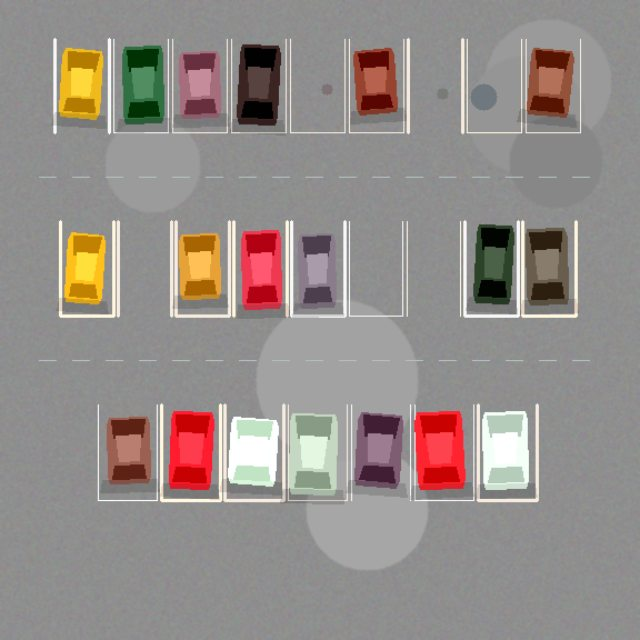space-empty: (118, 221, 171, 316), (349, 221, 402, 316), (407, 221, 460, 316), (290, 39, 344, 132), (408, 39, 462, 132), (467, 39, 521, 132)
space-occupied: (98, 404, 157, 500), (161, 404, 220, 500), (224, 404, 283, 500), (288, 404, 347, 500), (351, 404, 410, 500), (414, 404, 473, 500), (478, 404, 537, 500), (233, 221, 287, 316), (464, 221, 518, 316), (522, 221, 576, 316), (54, 39, 109, 132), (113, 39, 168, 132), (172, 39, 227, 132), (231, 39, 286, 132), (60, 221, 113, 316), (176, 221, 229, 316), (291, 221, 344, 316), (349, 39, 403, 132), (526, 39, 580, 132)
